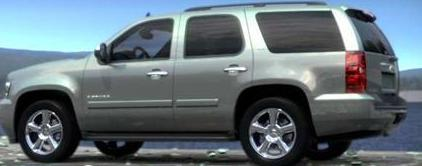back_view: (345, 49, 411, 136)
backlight: (343, 49, 372, 98)
side_glass: (104, 8, 346, 69)
